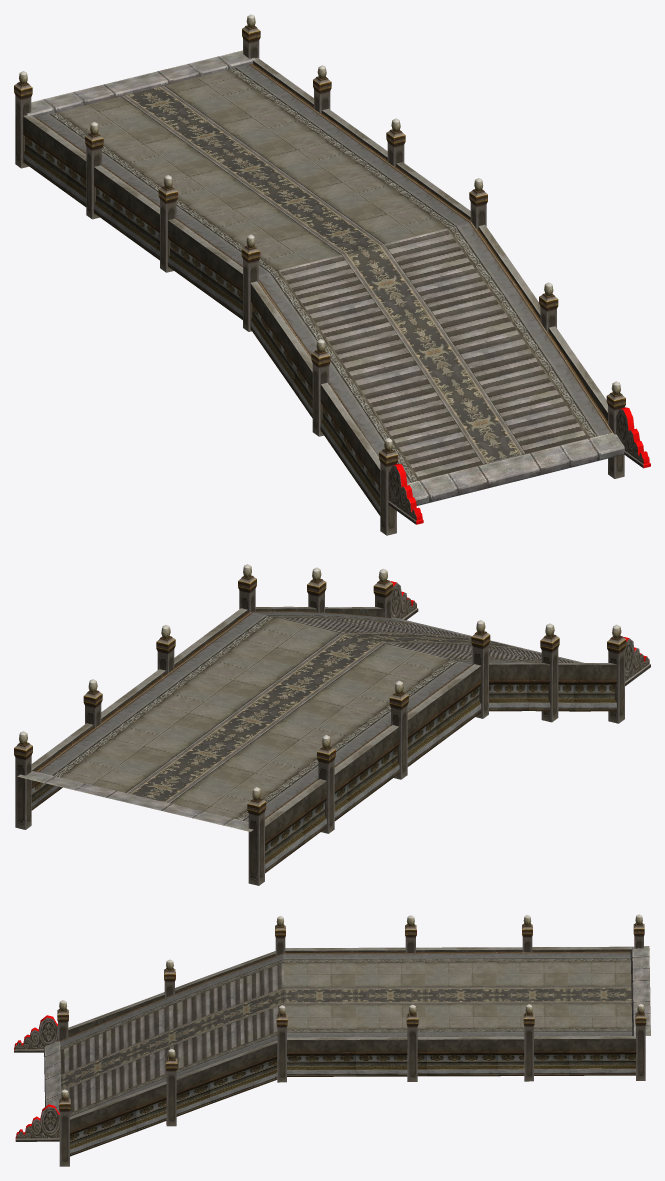
The model's file is THL_3.fbx.
3 views of the same model, one above another, from view 1: azimuth 30°, elevation 25°; view 2: azimuth 150°, elevation 25°; view 3: azimuth 270°, elevation 25° (orthographic). The views are drawn at different scales.
Visible parts, largest first — view 1: polySurface182; view 2: polySurface182; view 3: polySurface182.
Boxes of the visible parts, x1,y1,x2,y2 form: polySurface182: (14, 14, 650, 535); polySurface182: (14, 564, 650, 885); polySurface182: (14, 914, 650, 1166).
Bounding box in the file's own units: 16.73 × 12.93 × 46.89.
